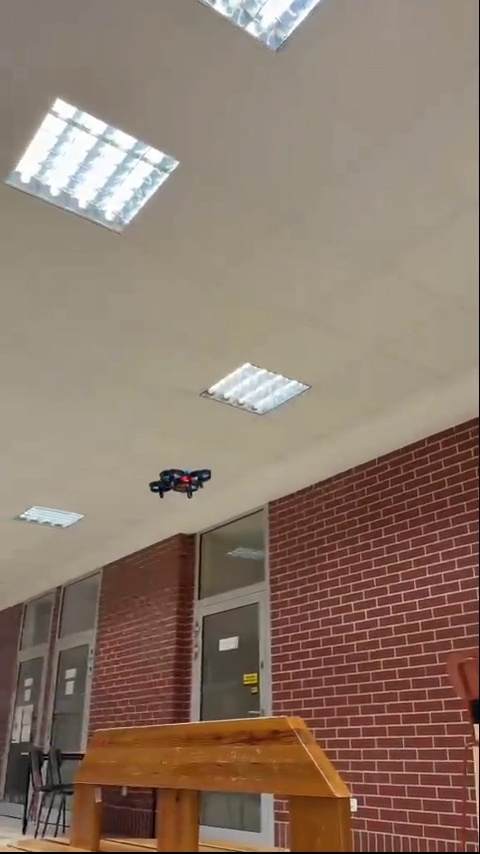drone: (146, 468, 218, 497)
